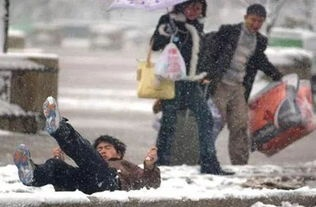falling: (1, 91, 170, 199)
